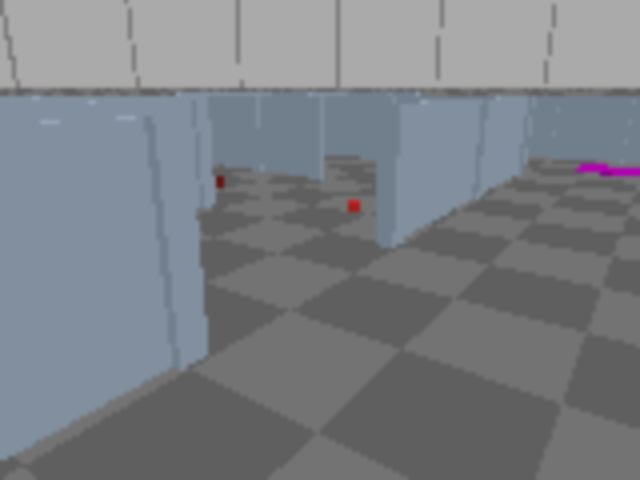goal_zone: (575, 164, 638, 178)
